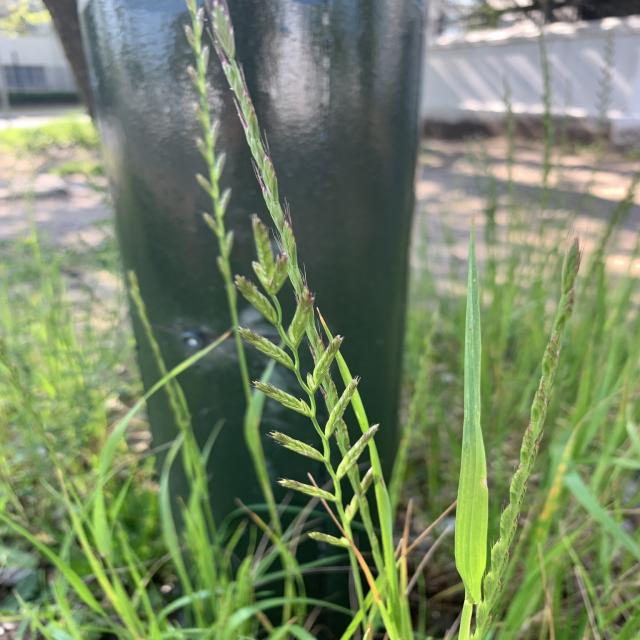Lolium: (179, 2, 415, 638), (475, 246, 587, 632)
